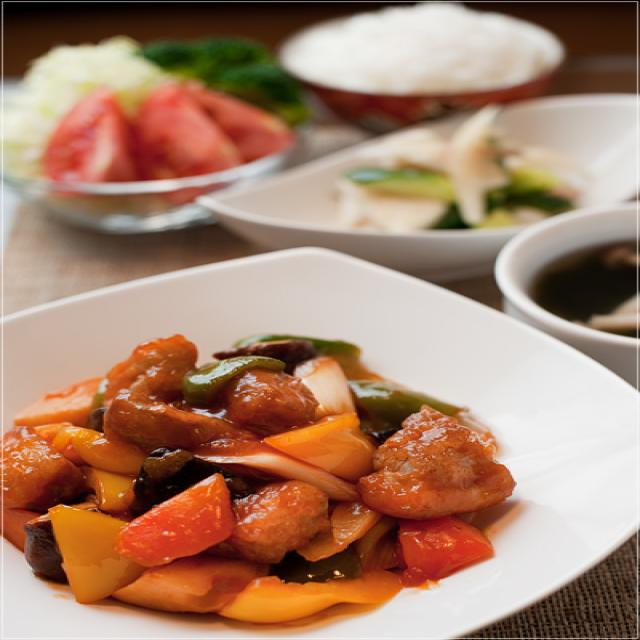猪肉菜式: (0, 331, 514, 625)
米饭主食: (280, 0, 566, 97)
